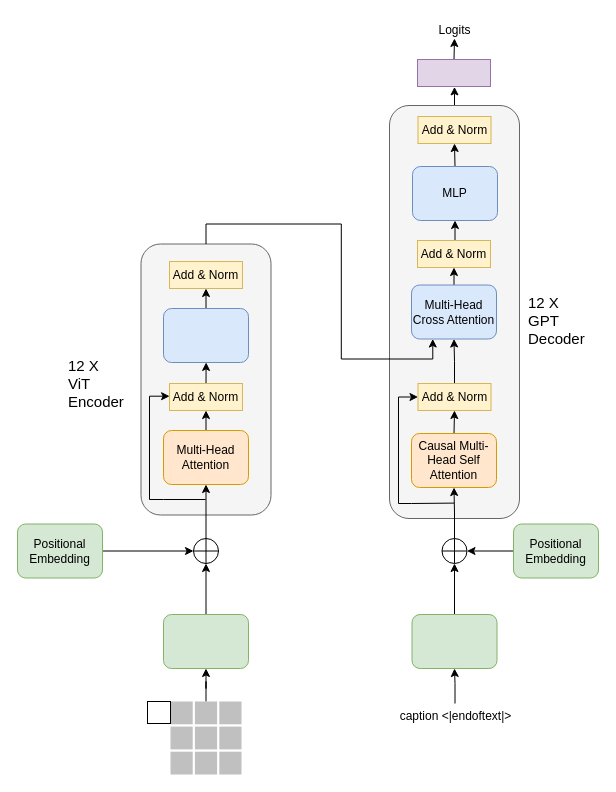
Image size: 616x792. Some labels were removed from this diagram. The shapes that lost their labels are listed below. From the top down, each one's centre as x and y in pixels, then its label:
pixel 453 72: LM Head
pixel 205 335: Feed Forward
pixel 205 641: Patch Embedding
pixel 454 641: Token Embedding
pixel 158 712: [CLS]
